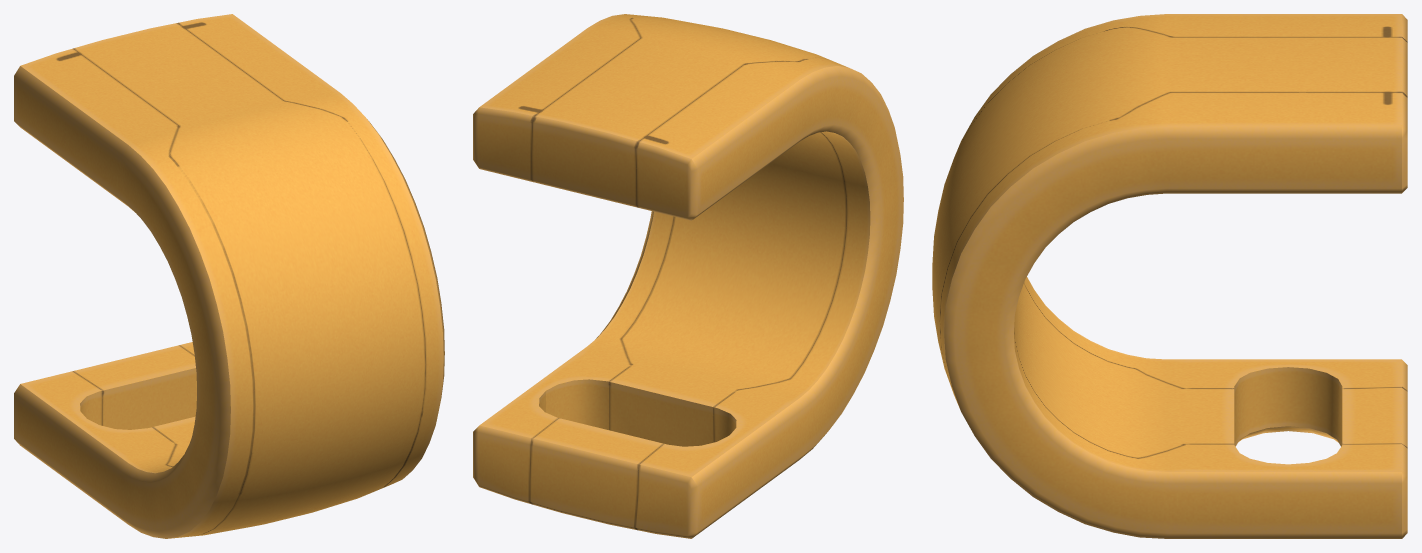
The model's file is SM_Armour_Capsule_Upper.fbx.
3 views of the same model, side by side, from view 1: azimuth 30°, elevation 25°; view 2: azimuth 150°, elevation 25°; view 3: azimuth 270°, elevation 25° (orthographic). The views are drawn at different scales.
Parts seen in each view (by area): view 1: SM_Armour_Capsule_Upper; view 2: SM_Armour_Capsule_Upper; view 3: SM_Armour_Capsule_Upper.
Part boxes in pixels (x1=…): SM_Armour_Capsule_Upper: x1=14, y1=14, x2=444, y2=538; SM_Armour_Capsule_Upper: x1=473, y1=14, x2=903, y2=538; SM_Armour_Capsule_Upper: x1=932, y1=14, x2=1407, y2=538.
Size of the model in its own units: 34.18 by 56.89 by 57.67.
1 material, 1 textured.
